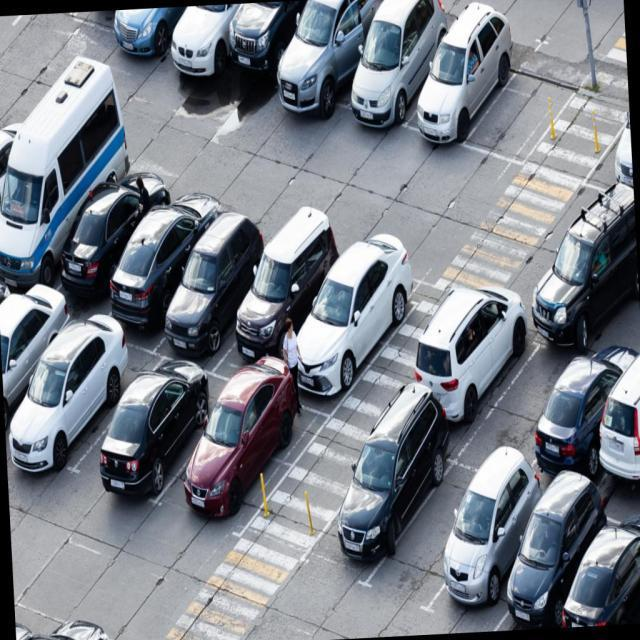car: (165, 380, 304, 517), (86, 353, 216, 498), (0, 336, 134, 474), (312, 438, 446, 574), (0, 151, 108, 294), (426, 481, 534, 613), (106, 215, 214, 338), (218, 253, 335, 366), (284, 282, 408, 388), (160, 234, 262, 360), (495, 508, 601, 628), (285, 0, 389, 118), (528, 346, 623, 473), (412, 318, 532, 416), (409, 44, 512, 158), (52, 197, 156, 302), (344, 19, 450, 120), (0, 303, 61, 435), (226, 0, 310, 78), (170, 3, 258, 76), (558, 551, 640, 627), (598, 369, 640, 497), (0, 125, 36, 248)
free: (366, 455, 476, 591), (466, 348, 581, 458), (470, 47, 558, 171)
